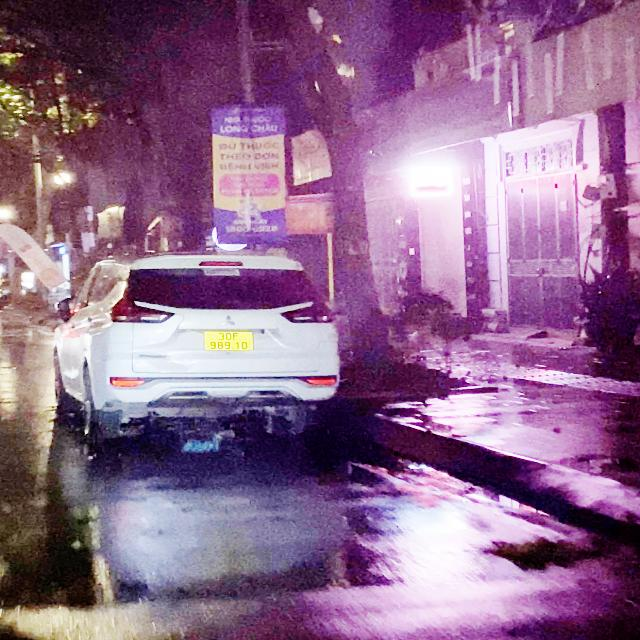license_plate: (203, 332, 256, 353)
